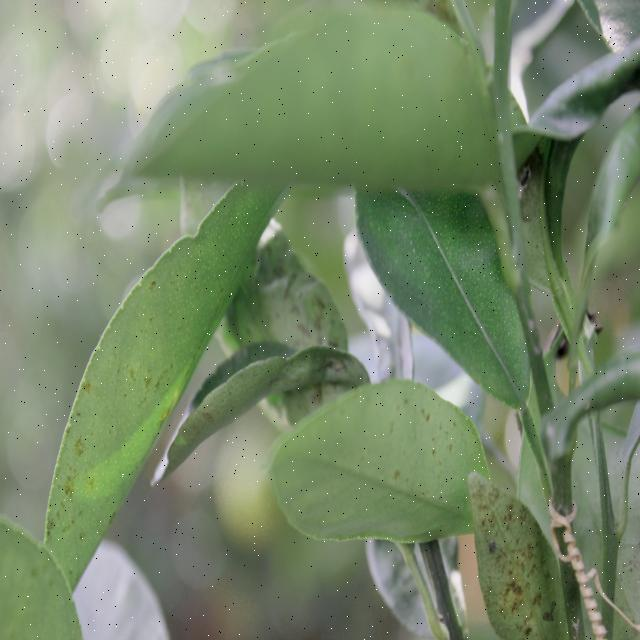melanose: (7, 215, 219, 592), (469, 467, 579, 640), (248, 236, 350, 409)
